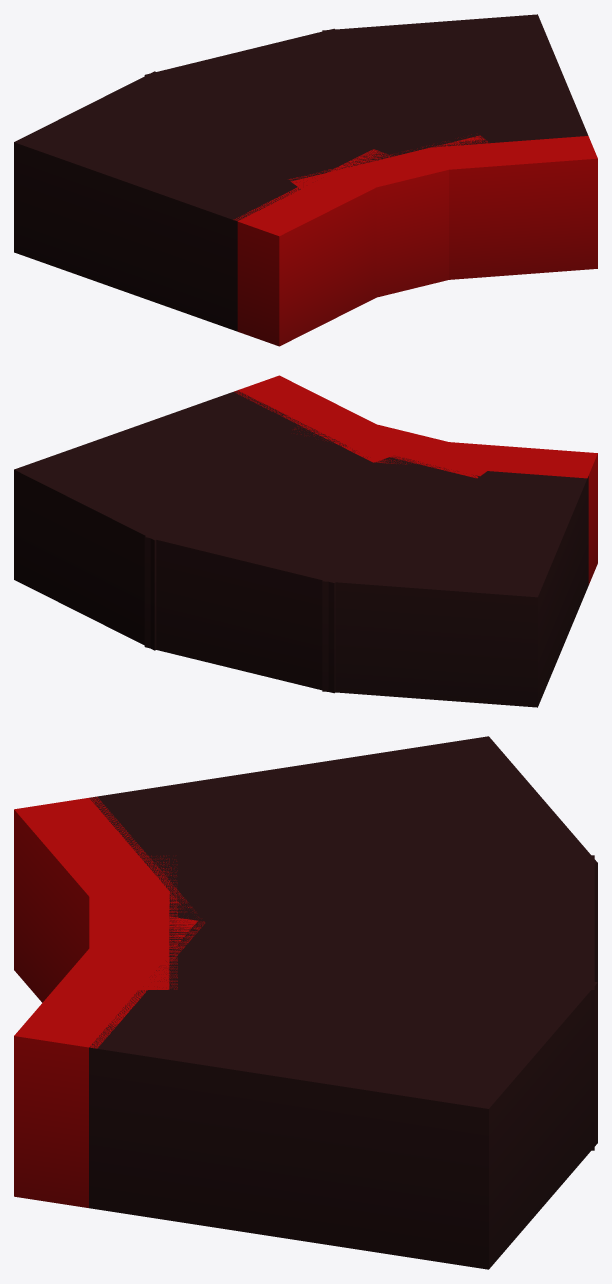
The model's file is piercing-rounds-magazine.glb.
3 renders of one model, top to bottom at view 1: azimuth 30°, elevation 25°; view 2: azimuth 150°, elevation 25°; view 3: azimuth 270°, elevation 25°, orthographic. The views are drawn at different scales.
Visible parts, largest first — view 1: piercing-rounds-magazine; view 2: piercing-rounds-magazine; view 3: piercing-rounds-magazine.
Boxes of the visible parts, <box> form: piercing-rounds-magazine: <box>14,14,597,346</box>; piercing-rounds-magazine: <box>14,375,597,707</box>; piercing-rounds-magazine: <box>14,736,597,1269</box>.
Size of the model in its own units: 0.2487 by 0.05 by 0.1647.
